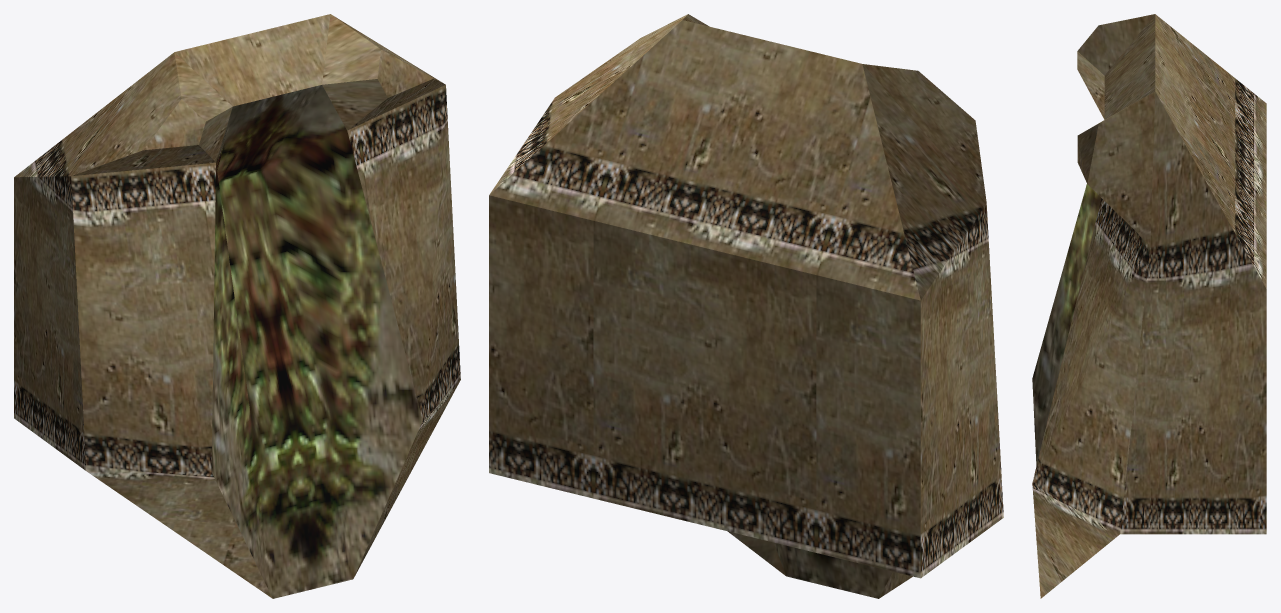
File: StoneMuWall03.obj
The picture shows the model from 3 angles, left to right: view 1: azimuth 30°, elevation 25°; view 2: azimuth 150°, elevation 25°; view 3: azimuth 270°, elevation 25°; orthographic projection. The views are drawn at different scales.
Visible parts, largest first — view 1: Mesh_0, Mesh_1; view 2: Mesh_0, Mesh_1; view 3: Mesh_0, Mesh_1.
Part boxes in pixels (x1=…): Mesh_0: x1=14, y1=14, x2=460, y2=598; Mesh_1: x1=211, y1=85, x2=422, y2=598; Mesh_0: x1=489, y1=14, x2=1003, y2=598; Mesh_1: x1=774, y1=542, x2=892, y2=598; Mesh_0: x1=1032, y1=14, x2=1266, y2=598; Mesh_1: x1=1032, y1=184, x2=1101, y2=465.
Size of the model in its own units: 3 by 3.95 by 1.6.
2 materials, 2 textured.
